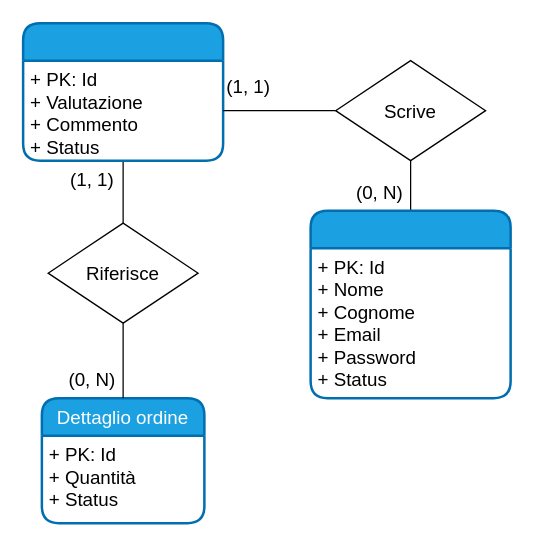
Some shapes in this 533 by 545 pixel diagram are drawn without their labels. The box of each missing label's shape, as (x1, y1, x2, y2) in pixels:
Recensione: (21, 21, 224, 161)
Utente: (309, 209, 511, 399)
